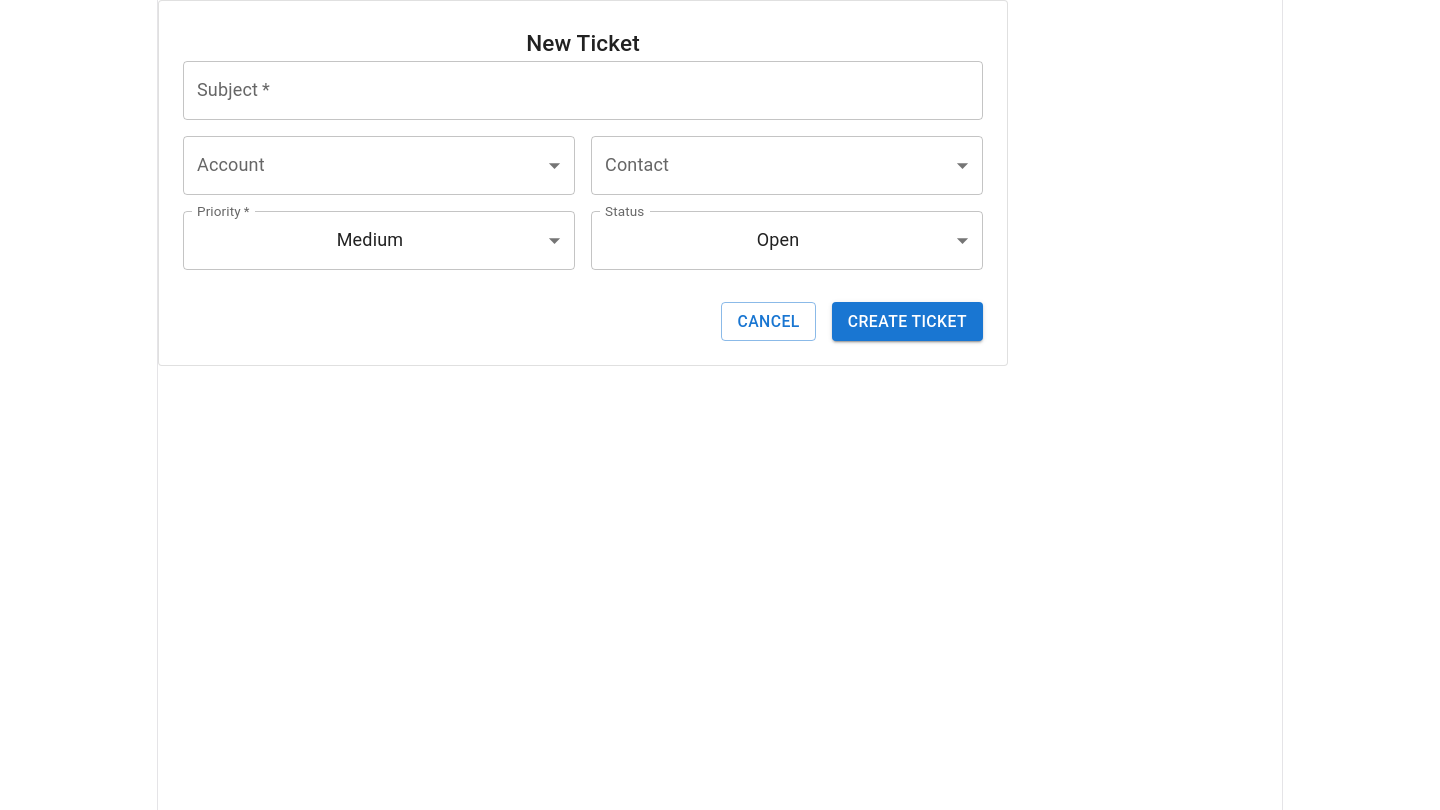
Test: TicketFormPage › shows validation error when Subject is empty
Click the button "Create Ticket" at (907, 321), box x1=832 y1=302 x2=983 y2=341
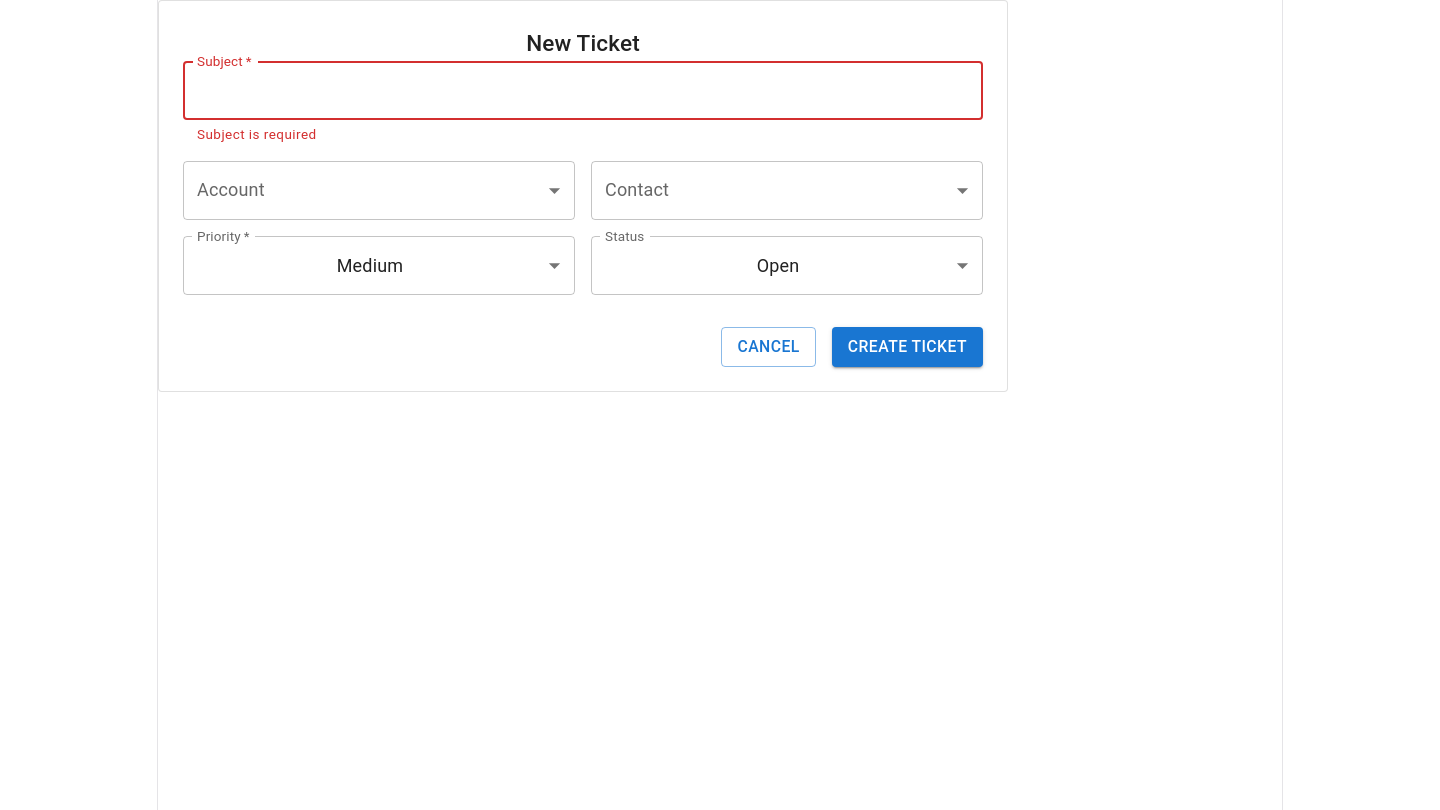
Now the text "Subject is required" is shown, box x1=197 y1=126 x2=317 y2=142
